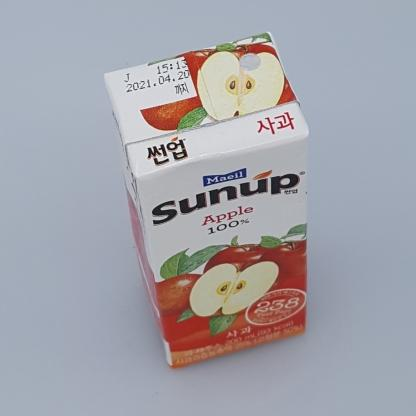-----------200ML: (103, 31, 309, 369)
